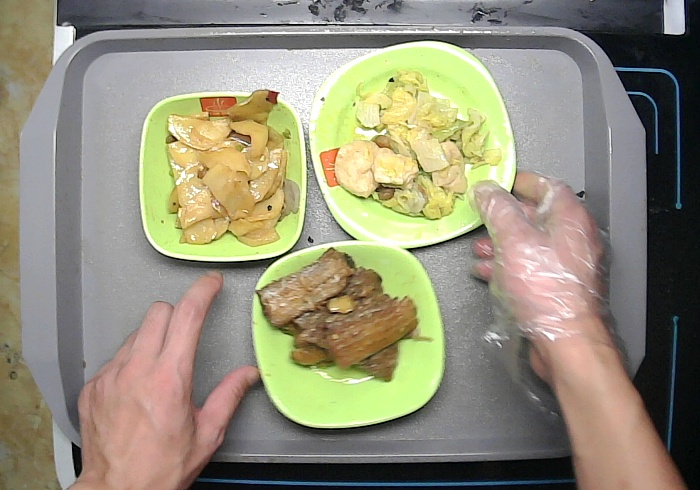SHKJ-Lv_Se_Cai_Die: (246, 236, 455, 432)
SHKJ-Lv_Se_Si_Fang_Cai_Die: (306, 36, 527, 251)
SHKJ-Lv_Se_Xiao_Fang_Die: (131, 83, 311, 271)
